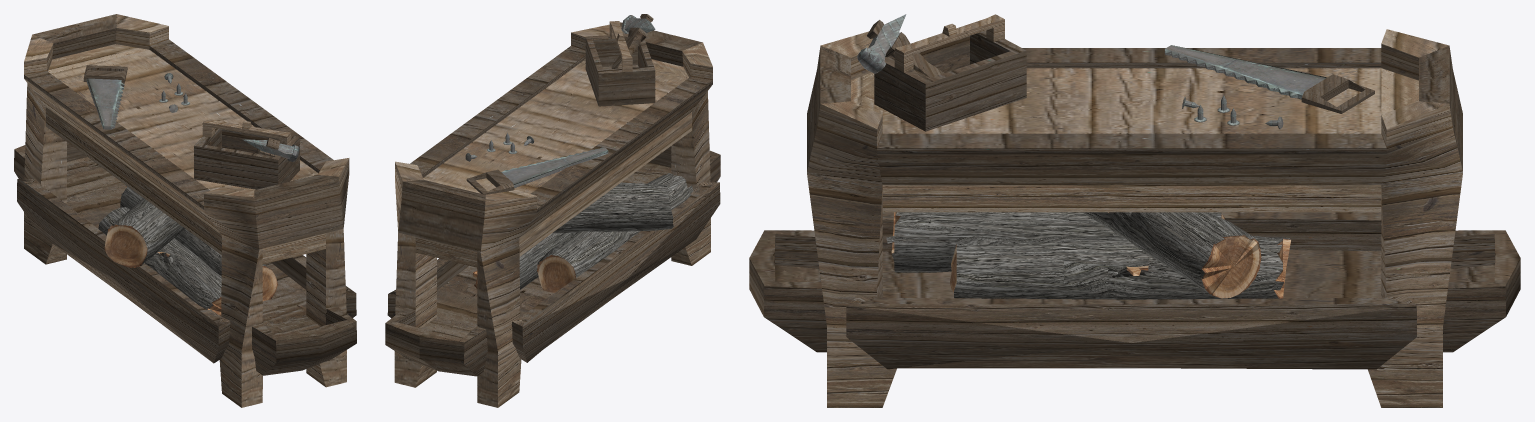
The model's file is crafting_bench_advanced.glb.
3 views of the same model, side by side, from view 1: azimuth 30°, elevation 25°; view 2: azimuth 150°, elevation 25°; view 3: azimuth 270°, elevation 25° (orthographic). The views are drawn at different scales.
Parts seen in each view (by area): view 1: Object_4, Object_3, Object_7, Object_6, Object_8; view 2: Object_4, Object_3, Object_7, Object_6, Object_8, Object_5; view 3: Object_4, Object_3, Object_7, Object_6, Object_8, Object_5.
Part boxes in pixels (x1,y1,x2,y2): Object_4: [14, 14, 356, 375]; Object_3: [24, 14, 349, 407]; Object_7: [98, 185, 269, 309]; Object_6: [86, 73, 299, 161]; Object_8: [104, 186, 277, 316]; Object_4: [385, 22, 720, 376]; Object_3: [394, 21, 712, 407]; Object_7: [519, 173, 693, 289]; Object_6: [465, 15, 655, 187]; Object_8: [473, 174, 689, 292]; Object_5: [611, 14, 653, 68]; Object_4: [749, 30, 1520, 369]; Object_3: [807, 14, 1462, 407]; Object_7: [886, 212, 1290, 299]; Object_6: [857, 14, 1327, 129]; Object_8: [891, 212, 1290, 298]; Object_5: [867, 20, 944, 77].
Size of the model in its own units: 128 by 156 by 313.
Materials: 6 (6 with a texture image).
